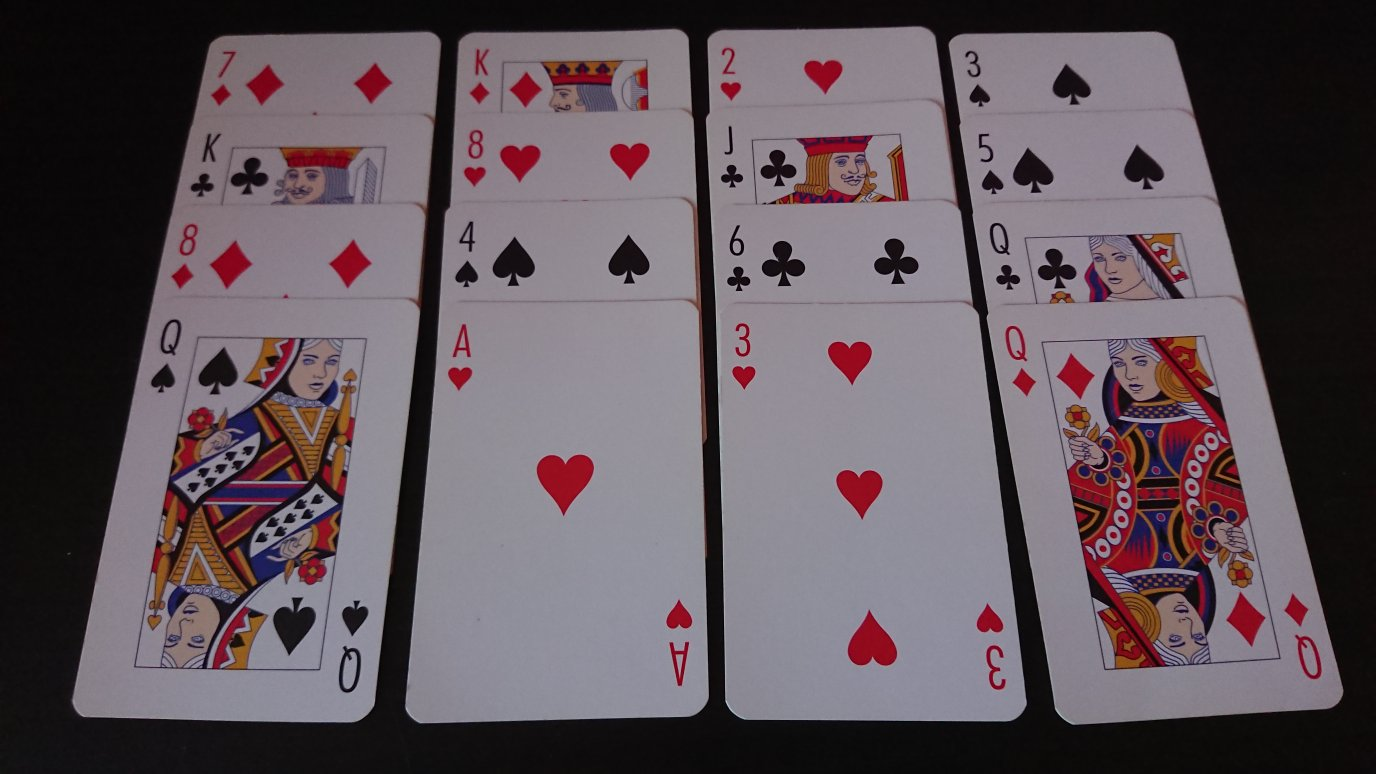2H: (714, 39, 748, 106)
3H: (725, 319, 763, 396)
3S: (959, 44, 999, 112)
4S: (449, 214, 484, 295)
5S: (971, 126, 1012, 200)
6C: (722, 218, 755, 298)
7D: (207, 47, 242, 111)
8D: (167, 218, 208, 296)
8H: (459, 125, 490, 192)
AH: (441, 315, 480, 396)
JC: (716, 118, 748, 196)
KC: (184, 125, 229, 206)
KD: (463, 41, 498, 108)
QC: (984, 219, 1027, 298)
QD: (996, 320, 1045, 402)
QS: (143, 311, 189, 403)
